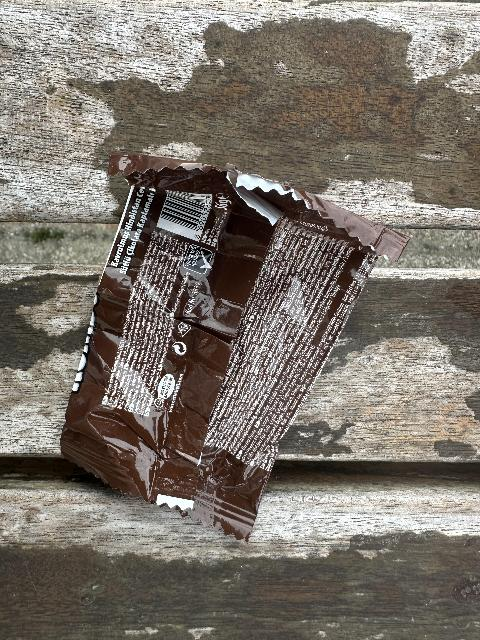Plastik: (73, 163, 384, 540)
